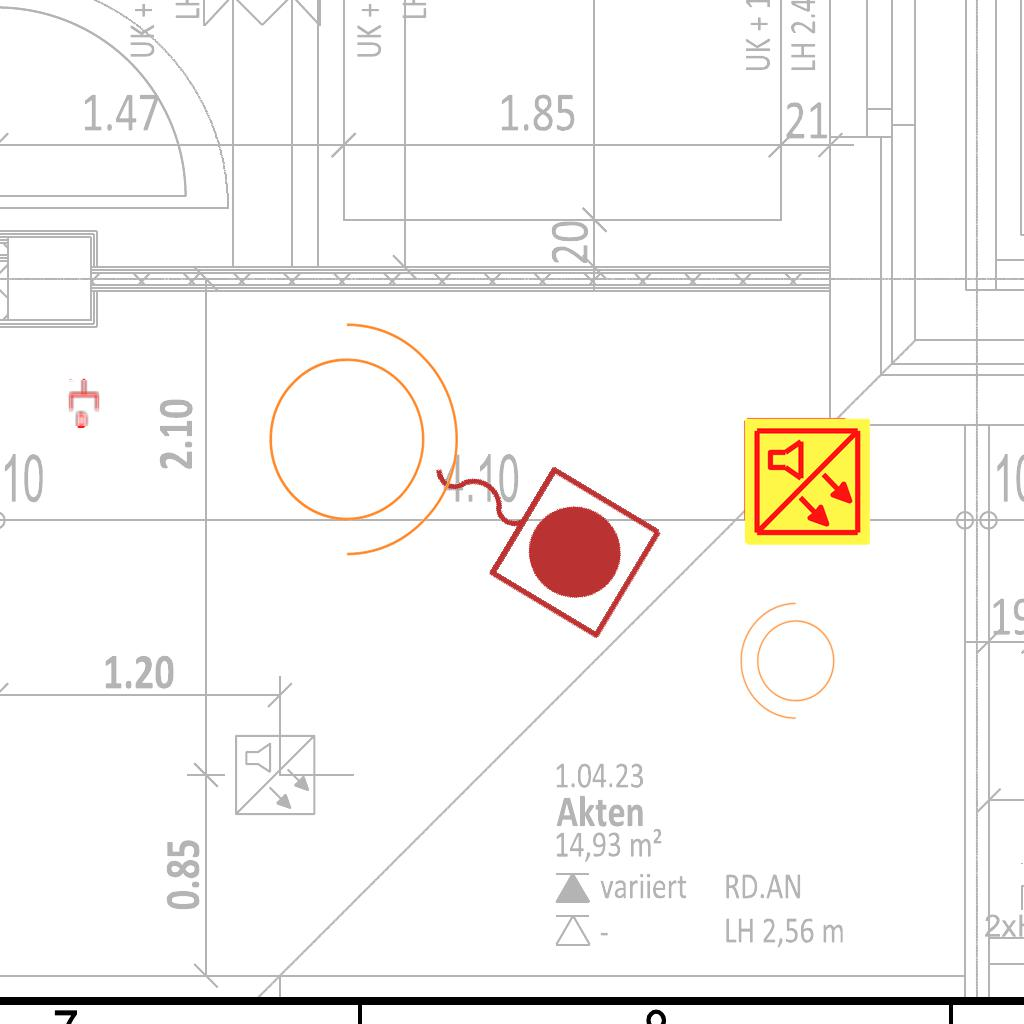Datenanschluss_einfach: (67, 378, 101, 428)
OKW_Multisensormelder_(Kombination_optischer_Rauch-Kahlenmonoxid_Waerme-Melder): (741, 416, 873, 548)
Scheinwerfer_fuer_Alarmbeleuchtung: (244, 301, 469, 565), (735, 598, 847, 730)
Zugtaster: (391, 400, 675, 650)
